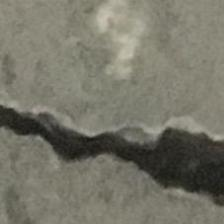Crack: (0, 18, 222, 224)
